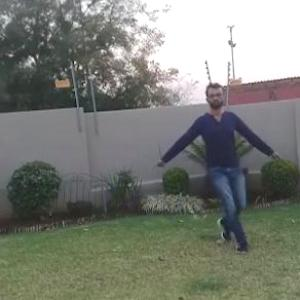land: (164, 86, 278, 244)
